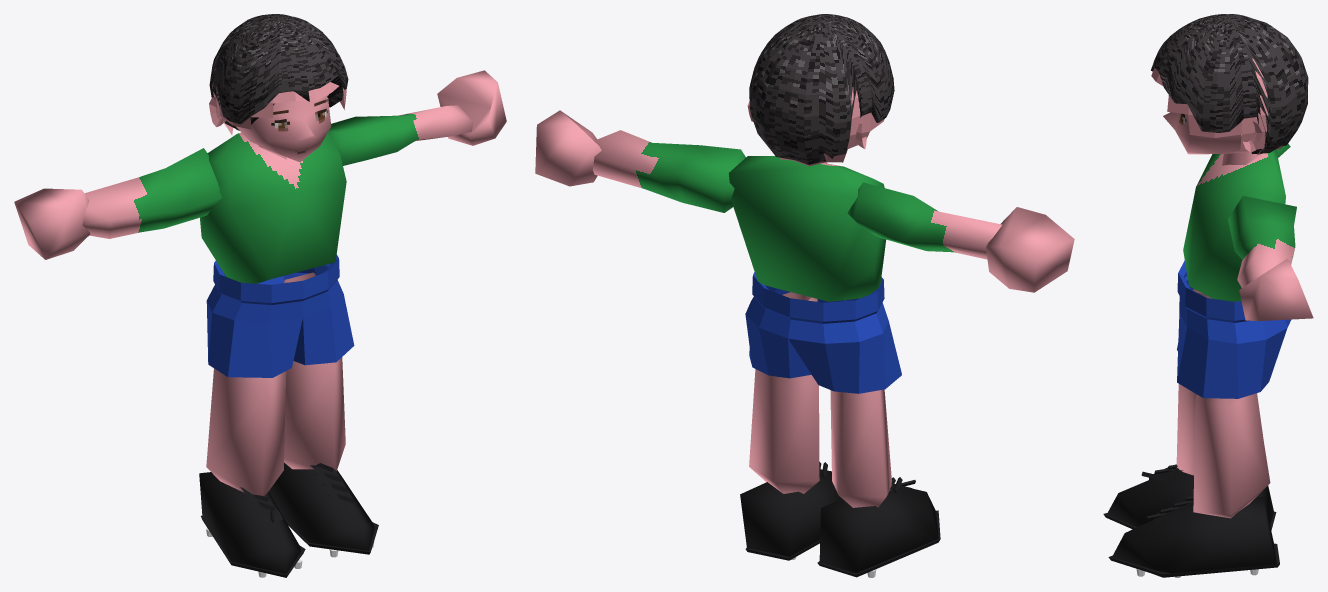
File: 03-raspado_preto.glb
The picture shows the model from 3 angles, left to right: view 1: azimuth 30°, elevation 25°; view 2: azimuth 150°, elevation 25°; view 3: azimuth 270°, elevation 25°; orthographic projection. The views are drawn at different scales.
Parts seen in each view (by area): view 1: Camisa_Tronco, Bermuda, Cabelo, Perna.R, Braco.R, Perna.L, Chuteira.R, Chuteira.L, Braco.L, Mao.R, Cabeca, Mao.L (+3 smaller); view 2: Camisa_Tronco, Cabelo, Bermuda, Perna.L, Braco.L, Chuteira.R, Perna.R, Braco.R, Mao.R, Chuteira.L, Mao.L, Couro_Cabeludo (+1 smaller); view 3: Cabelo, Bermuda, Chuteira.L, Camisa_Tronco, Perna.L, Braco.L, Mao.L, Chuteira.R, Couro_Cabeludo, Perna.R, Cabeca, Chuteira_Sola.L (+4 smaller).
Part boxes in pixels (<box>): Camisa_Tronco: <box>200,132,346,283</box>; Bermuda: <box>206,254,354,377</box>; Cabelo: <box>209,14,348,130</box>; Perna.R: <box>206,368,286,500</box>; Braco.R: <box>82,148,222,238</box>; Perna.L: <box>284,272,345,471</box>; Chuteira.R: <box>199,472,303,573</box>; Chuteira.L: <box>269,463,374,550</box>; Braco.L: <box>328,105,473,165</box>; Mao.R: <box>14,188,90,259</box>; Cabeca: <box>236,94,331,162</box>; Mao.L: <box>437,70,506,145</box>; Camisa_Tronco: <box>728,156,885,301</box>; Cabelo: <box>749,14,894,164</box>; Bermuda: <box>745,272,901,393</box>; Perna.L: <box>749,292,819,493</box>; Braco.L: <box>593,130,745,212</box>; Chuteira.R: <box>819,484,938,572</box>; Perna.R: <box>830,389,891,507</box>; Braco.R: <box>847,182,1002,259</box>; Mao.R: <box>986,207,1074,292</box>; Chuteira.L: <box>740,469,841,556</box>; Mao.L: <box>535,110,601,186</box>; Couro_Cabeludo: <box>780,87,884,166</box>; Cabelo: <box>1151,14,1308,153</box>; Bermuda: <box>1177,260,1290,398</box>; Chuteira.L: <box>1112,497,1277,577</box>; Camisa_Tronco: <box>1183,150,1285,301</box>; Perna.L: <box>1193,393,1270,518</box>; Braco.L: <box>1228,196,1296,287</box>; Mao.L: <box>1239,258,1313,321</box>; Chuteira.R: <box>1107,468,1273,527</box>; Couro_Cabeludo: <box>1151,58,1282,154</box>; Perna.R: <box>1176,289,1262,475</box>; Cabeca: <box>1163,112,1249,154</box>; Chuteira_Sola.L: <box>1108,543,1279,577</box>.
Size of the model in its own units: 0.4523 by 0.4507 by 0.1617.
Materials: 3 (3 with a texture image).
